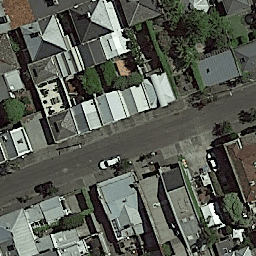car: (98, 153, 121, 171), (205, 152, 222, 173)
